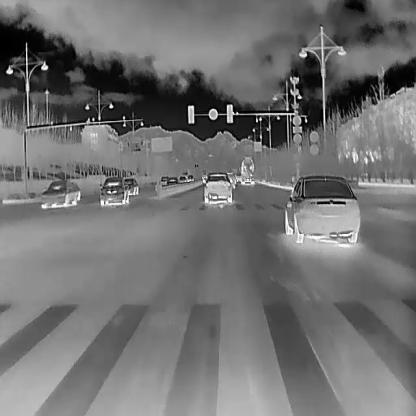car: (284, 173, 360, 244), (40, 177, 81, 208), (201, 171, 233, 203), (99, 176, 130, 206), (239, 156, 255, 185), (123, 177, 138, 195), (226, 171, 237, 186), (167, 176, 177, 186), (160, 173, 168, 185), (177, 174, 187, 182), (186, 172, 193, 182)
